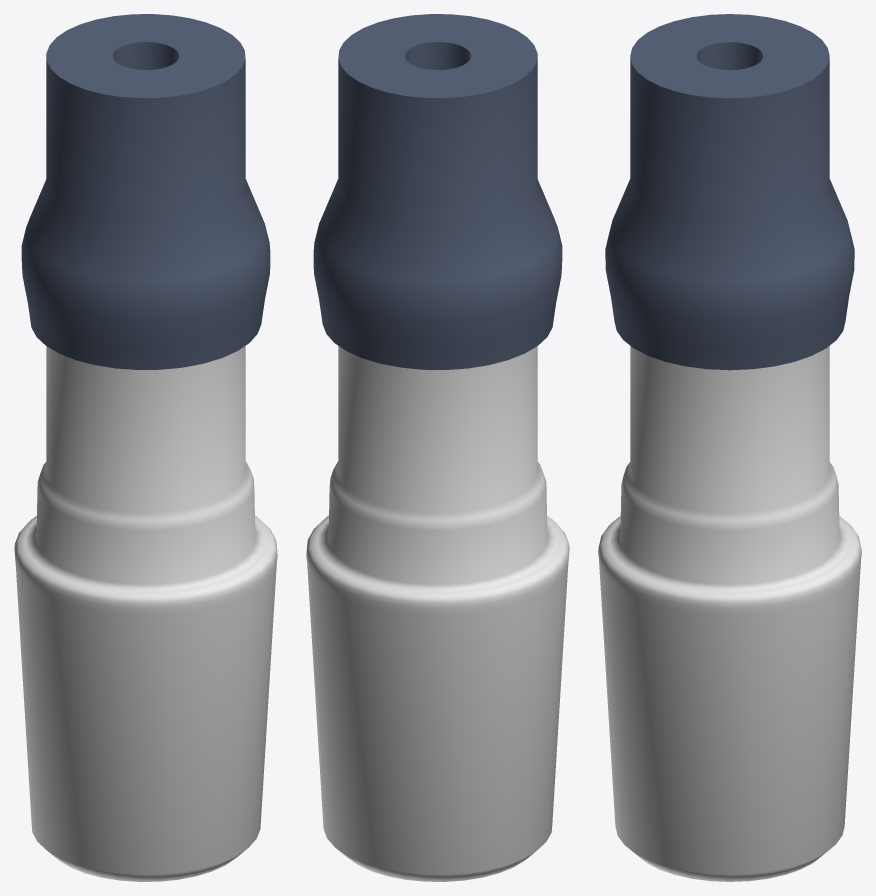
File: ThermometerAdapter - Copy.fbx
3 renders of one model, left to right at view 1: azimuth 30°, elevation 25°; view 2: azimuth 150°, elevation 25°; view 3: azimuth 270°, elevation 25°, orthographic.
Visible parts, largest first — view 1: ThermometerAdapter; view 2: ThermometerAdapter; view 3: ThermometerAdapter.
Boxes of the visible parts, box(x1,y1,x2,y2) form: ThermometerAdapter: box(14, 14, 277, 881); ThermometerAdapter: box(306, 14, 569, 881); ThermometerAdapter: box(598, 14, 861, 881).
Size of the model in its own units: 1.98 by 6.5 by 1.98.
